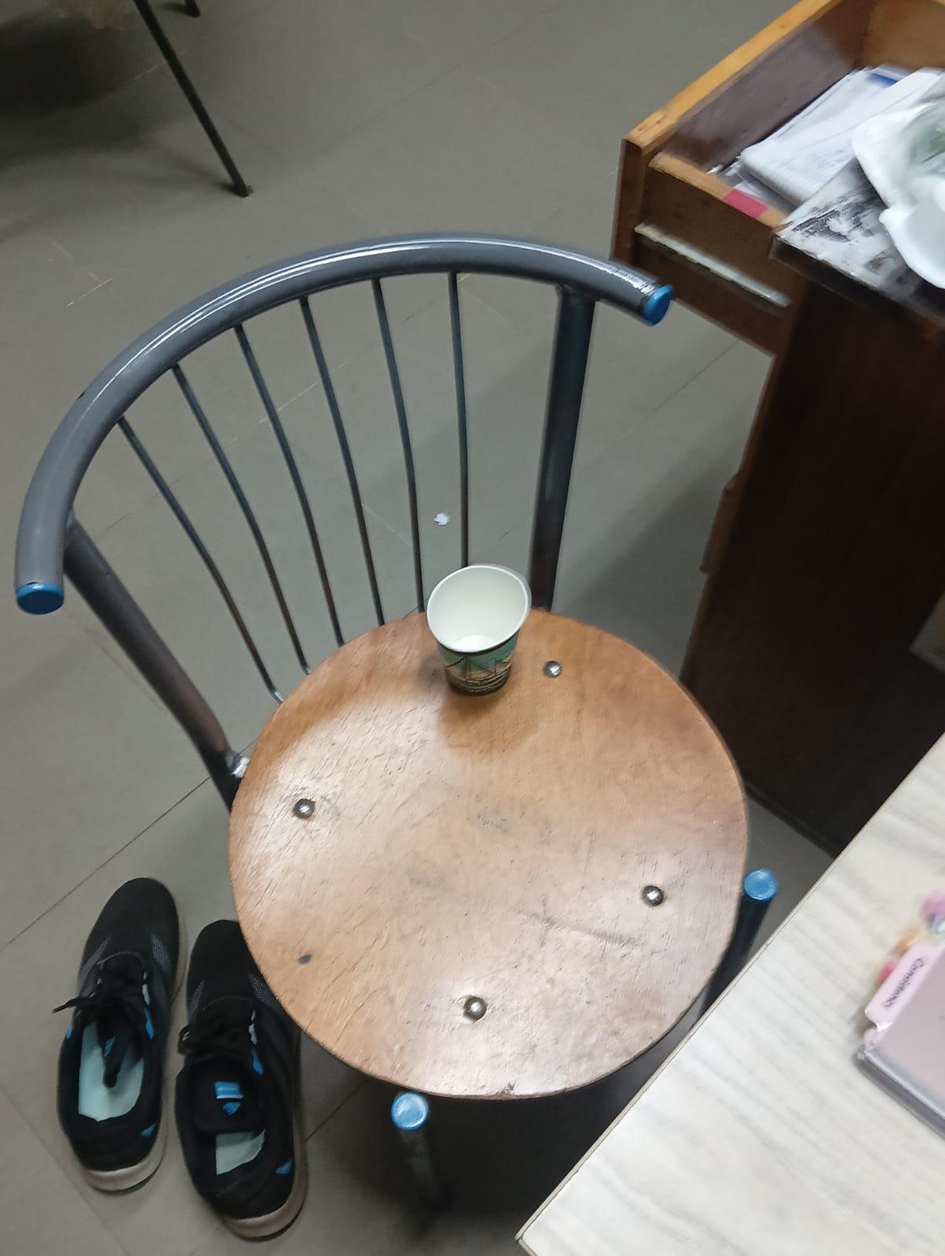cup: (426, 564, 530, 693)
